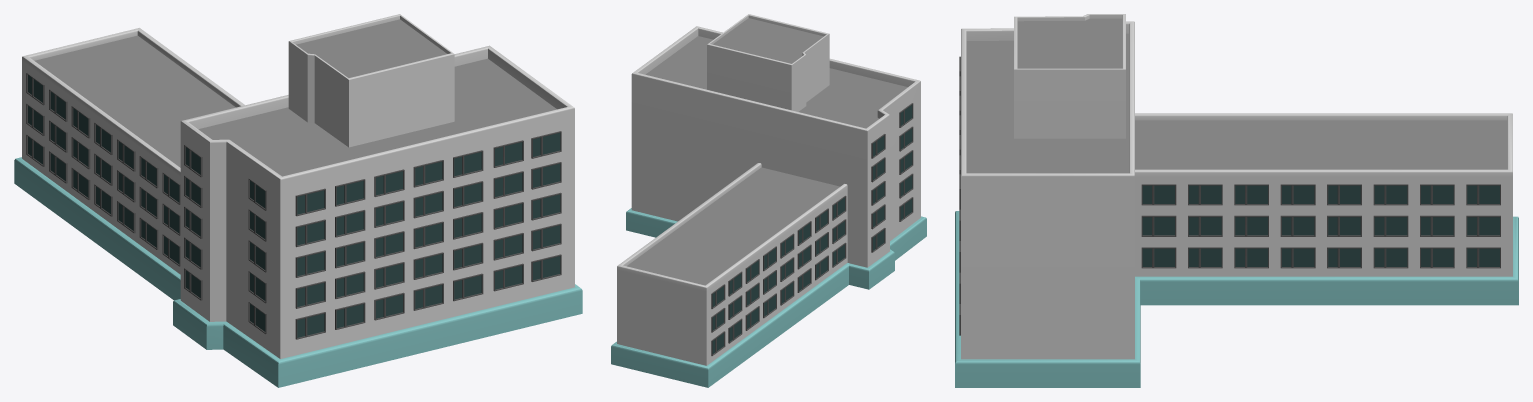
3 renders of one model, left to right at view 1: azimuth 30°, elevation 25°; view 2: azimuth 150°, elevation 25°; view 3: azimuth 270°, elevation 25°, orthographic. The views are drawn at different scales.
Parts seen in each view (by area): view 1: pCube1, pCube2, pCube3, pCube12, pCube16, pCube15, pCube14, pCube17, pCube33, pCube32, pCube34, pCube20 (+4 smaller); view 2: pCube1, pCube2, pCube3, pCube32, pCube34, pCube33, pCube20, pCube21, pCube22, pCube23, pCube24; view 3: pCube2, pCube1, pCube3, pCube35, pCube36, pCube37.
Part boxes in pixels (<box>): pCube1: <box>173,45,582,387</box>; pCube2: <box>14,28,244,300</box>; pCube3: <box>288,14,454,147</box>; pCube12: <box>295,131,561,216</box>; pCube16: <box>295,223,561,308</box>; pCube15: <box>295,192,561,277</box>; pCube14: <box>295,162,561,247</box>; pCube17: <box>295,254,561,339</box>; pCube33: <box>26,103,180,235</box>; pCube32: <box>26,72,180,204</box>; pCube34: <box>26,134,180,266</box>; pCube20: <box>184,144,266,210</box>; pCube1: <box>626,26,926,289</box>; pCube2: <box>611,163,849,387</box>; pCube3: <box>707,14,829,111</box>; pCube32: <box>711,195,846,308</box>; pCube34: <box>711,242,846,355</box>; pCube33: <box>711,219,846,332</box>; pCube20: <box>871,103,913,158</box>; pCube21: <box>871,126,913,182</box>; pCube22: <box>871,150,913,205</box>; pCube23: <box>871,173,913,229</box>; pCube24: <box>871,197,913,252</box>; pCube2: <box>1135,113,1518,305</box>; pCube1: <box>955,21,1140,387</box>; pCube3: <box>1014,14,1125,138</box>; pCube35: <box>1141,184,1500,205</box>; pCube36: <box>1141,215,1500,236</box>; pCube37: <box>1141,247,1500,268</box>.
Size of the model in its own units: 6.5 by 5.12 by 9.72.
